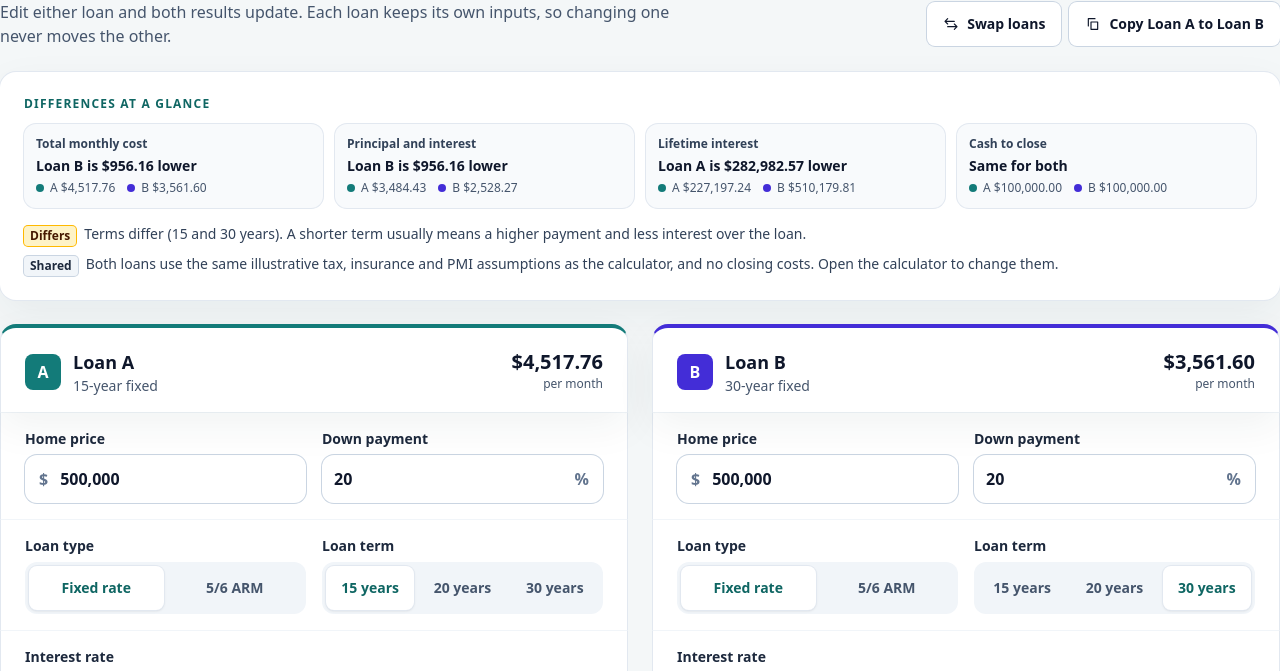
Test: CompareView › swaps the two loans
Click the button "Swap loans" at (994, 24), box [927,2,1061,46]
(page scrolled)
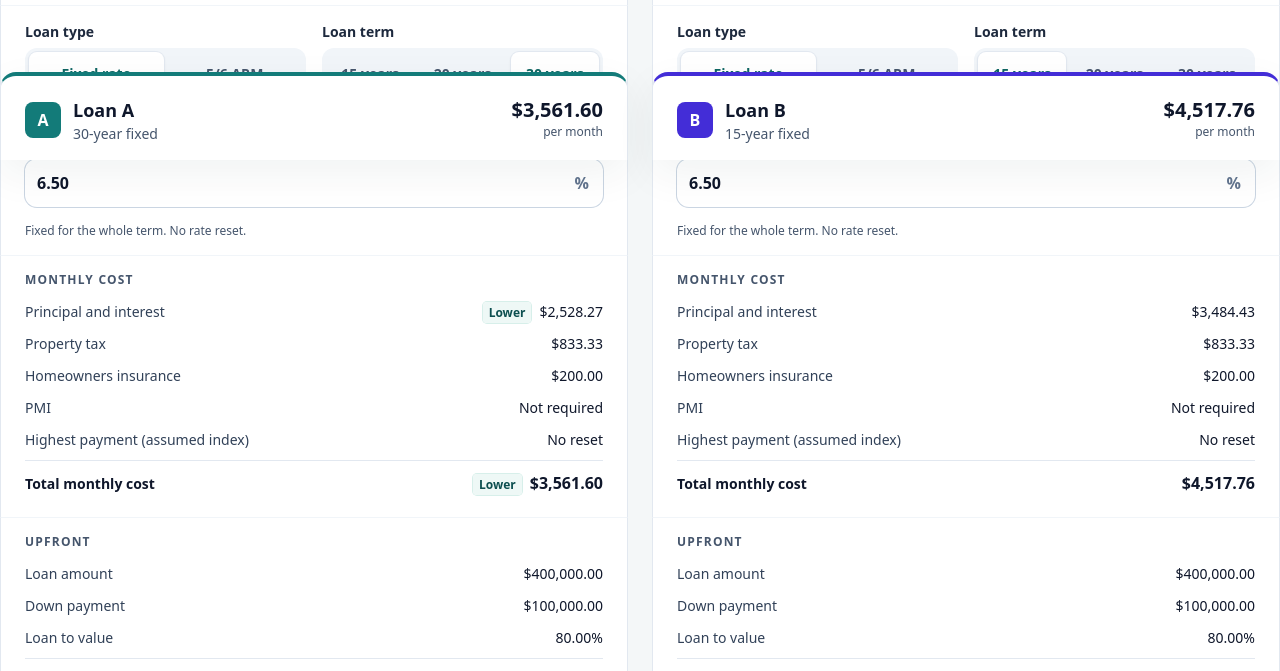
Check: the text "$2,528.27" is shown, box [539,302,603,321]
Check: the text "$3,484.43" is shown, box [1191,302,1255,322]
